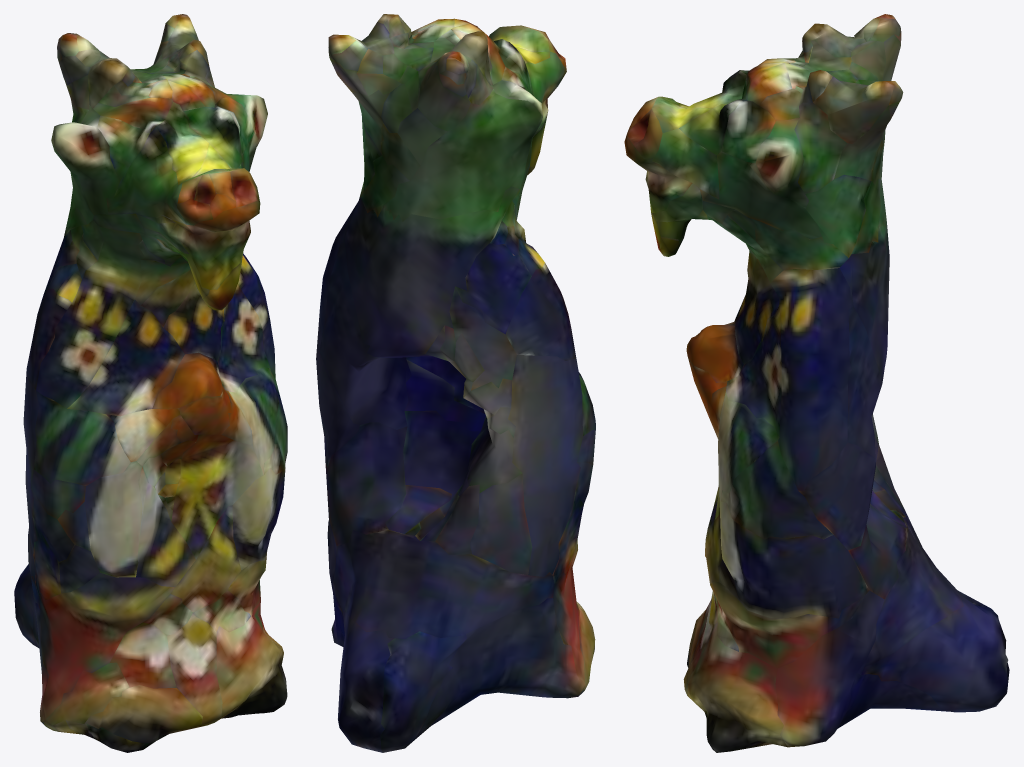
The model's file is hall.glb.
3 renders of one model, left to right at view 1: azimuth 30°, elevation 25°; view 2: azimuth 150°, elevation 25°; view 3: azimuth 270°, elevation 25°, orthographic. The views are drawn at different scales.
Bounding box in the file's own units: 0.2396 × 0.605 × 0.313.
Materials: 1 (1 with a texture image).
